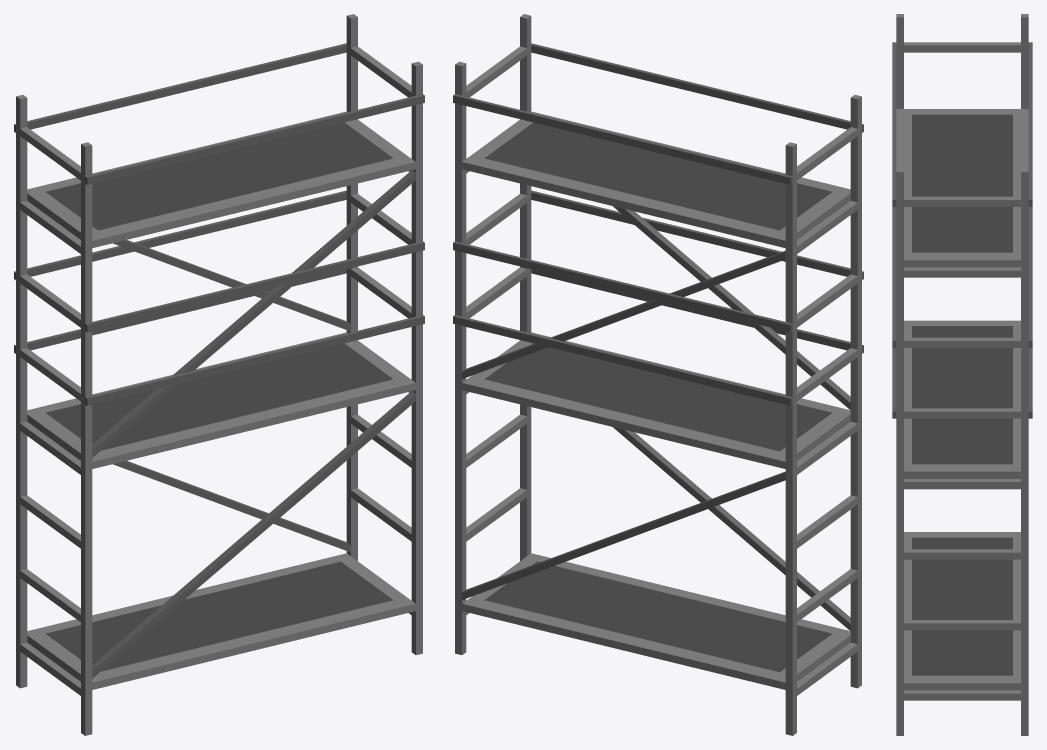
Rendered from Scaffolding2.fbx.
The picture shows the model from 3 angles, left to right: view 1: azimuth 30°, elevation 25°; view 2: azimuth 150°, elevation 25°; view 3: azimuth 270°, elevation 25°; orthographic projection. The views are drawn at different scales.
Parts seen in each view (by area): view 1: isl_Scaffolding_01_DEF.obj; view 2: isl_Scaffolding_01_DEF.obj; view 3: isl_Scaffolding_01_DEF.obj.
Boxes of the visible parts, x1,y1,x2,y2 form: isl_Scaffolding_01_DEF.obj: (14,14,424,735); isl_Scaffolding_01_DEF.obj: (453,14,863,735); isl_Scaffolding_01_DEF.obj: (892,14,1032,735).
Size of the model in its own units: 240 by 400 by 90.
